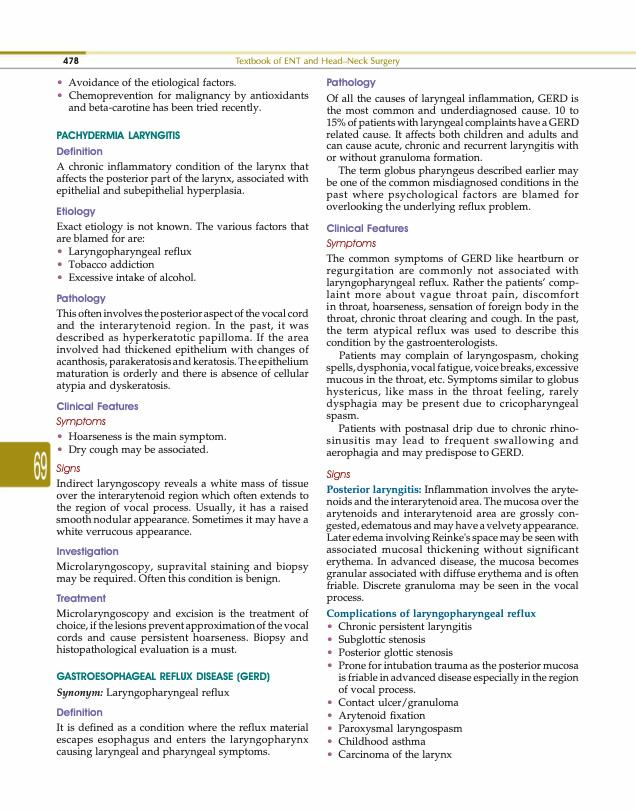header: (234, 56, 401, 67)
list: (326, 621, 579, 762), (56, 77, 310, 115), (56, 246, 197, 283), (56, 430, 228, 457)
sub-section-heading: (326, 607, 537, 620), (56, 671, 271, 682), (56, 129, 181, 140), (326, 484, 422, 496), (55, 401, 139, 411), (326, 223, 409, 233), (56, 546, 119, 558), (56, 292, 107, 305), (326, 77, 377, 90), (55, 416, 107, 428), (325, 238, 377, 250), (56, 706, 104, 717), (55, 593, 107, 603), (56, 206, 97, 218), (56, 146, 103, 156), (55, 463, 81, 476), (326, 469, 351, 481)
text: (325, 253, 580, 461), (326, 483, 580, 605), (325, 93, 580, 213), (55, 308, 310, 392), (55, 478, 310, 539), (55, 608, 310, 657), (55, 161, 310, 198), (55, 722, 310, 759), (55, 561, 310, 586), (55, 220, 310, 244), (56, 687, 231, 700)
